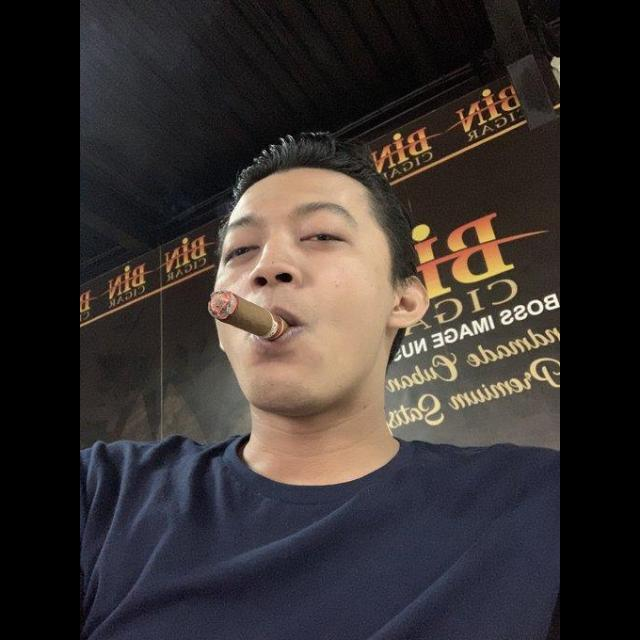rokok: (196, 286, 294, 344)
